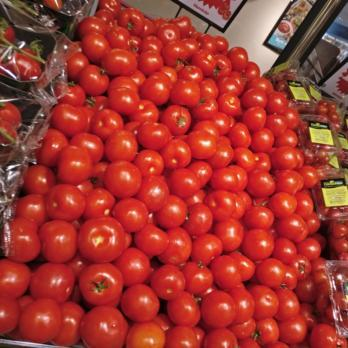Tomato: (75, 82, 302, 348)
